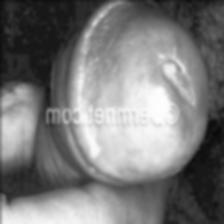Toxin: (106, 32, 210, 104), (177, 23, 207, 149)
